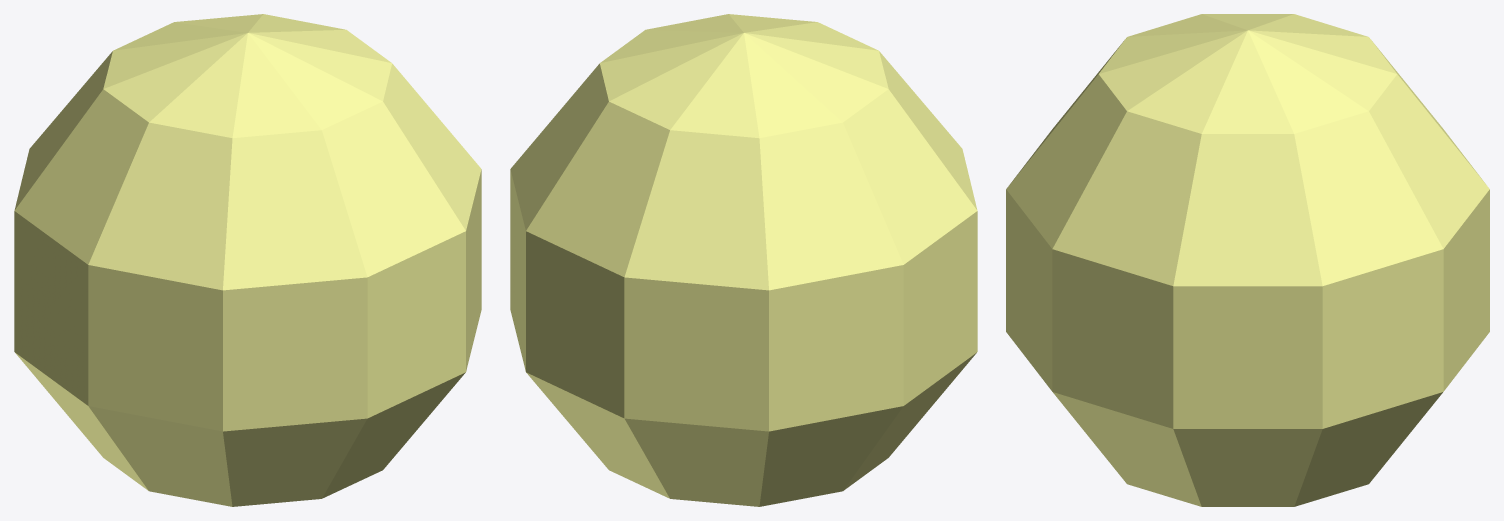
Rendered from StarModel.obj.
The picture shows the model from 3 angles, left to right: view 1: azimuth 30°, elevation 25°; view 2: azimuth 150°, elevation 25°; view 3: azimuth 270°, elevation 25°; orthographic projection.
Visible parts, largest first — view 1: Sphere001; view 2: Sphere001; view 3: Sphere001.
Boxes of the visible parts, x1,y1,x2,y2 form: Sphere001: (14, 14, 481, 506); Sphere001: (510, 14, 977, 506); Sphere001: (1006, 14, 1489, 506).
Size of the model in its own units: 0.0904 by 0.1 by 0.0952.
1 material, 1 textured.
